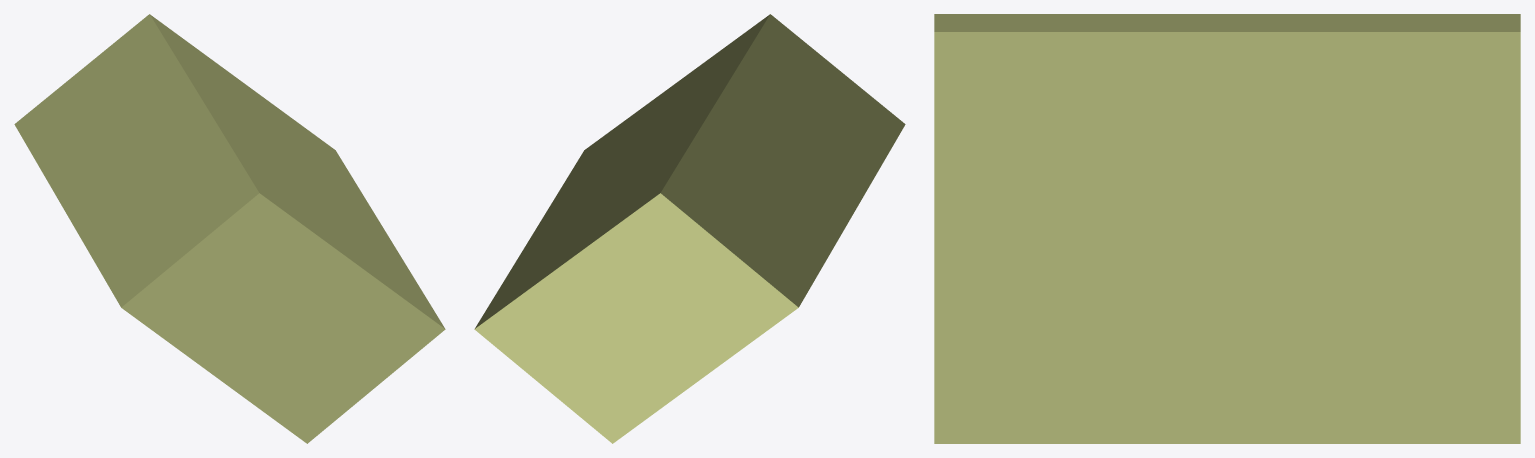
The picture shows the model from 3 angles, left to right: view 1: azimuth 30°, elevation 25°; view 2: azimuth 150°, elevation 25°; view 3: azimuth 270°, elevation 25°; orthographic projection. The views are drawn at different scales.
Visible parts, largest first — view 1: 0_1_3_2_2_1_2_0_2_3_1; view 2: 0_1_3_2_2_1_2_0_2_3_1; view 3: 0_1_3_2_2_1_2_0_2_3_1.
Part boxes in pixels (x1,y1,x2,y2): 0_1_3_2_2_1_2_0_2_3_1: [14, 14, 445, 443]; 0_1_3_2_2_1_2_0_2_3_1: [474, 14, 905, 443]; 0_1_3_2_2_1_2_0_2_3_1: [934, 14, 1520, 443].
Bounding box in the file's own units: 4.56 × 5.1 × 6.
